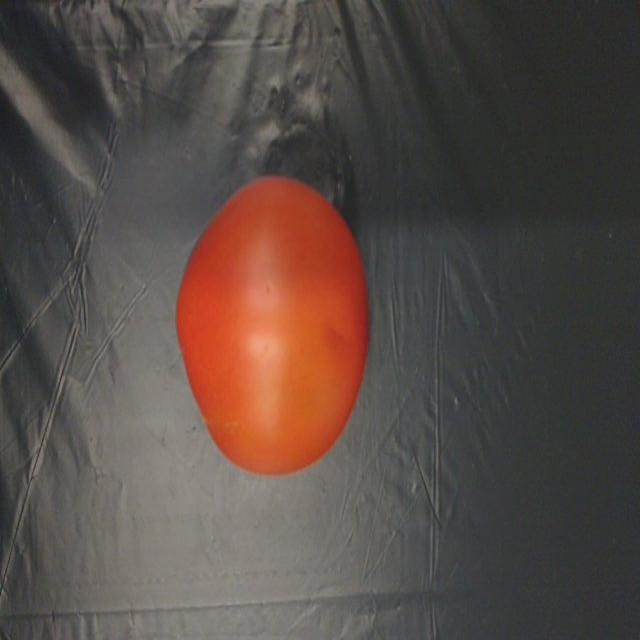kirmizi: (168, 170, 380, 482)
